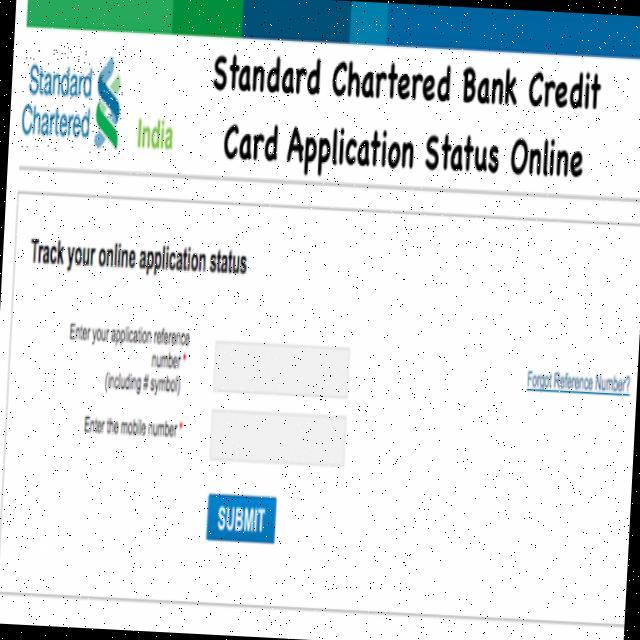Standard Chartered: (17, 44, 125, 155)
